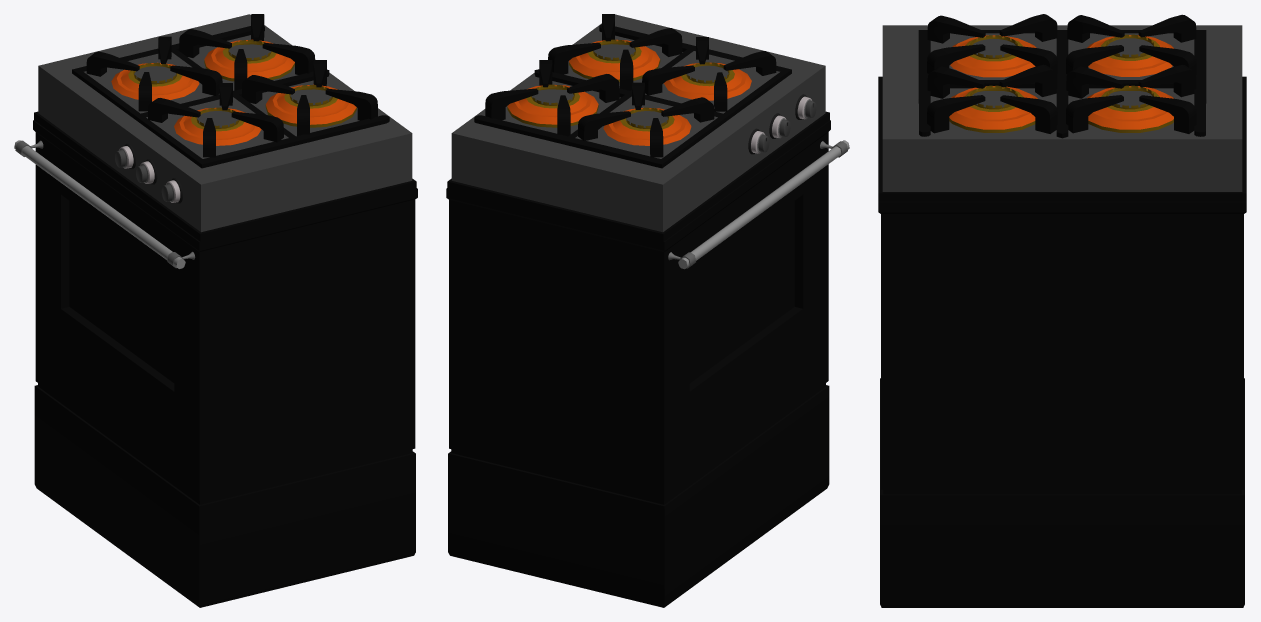
File: Gss Burner.glb
3 renders of one model, left to right at view 1: azimuth 30°, elevation 25°; view 2: azimuth 150°, elevation 25°; view 3: azimuth 270°, elevation 25°, orthographic. The views are drawn at different scales.
Visible parts, largest first — view 1: burmer, handel, stove1.001, stove1.002, stove1.003, stove1, side11.005, side11.011, side11.007, side11.009, side11.001, side11.013 (+2 smaller); view 2: burmer, handel, stove1.002, stove1.001, stove1.003, stove1, side11.010, side11.004, side11.008, side11.006, side11.014, side11.002 (+2 smaller); view 3: burmer, stove1.001, stove1.002, stove1.003, stove1, side11.006, side11.005, side11.009, side11.010, side11.011, side11.007, side11.008 (+9 smaller).
Part boxes in pixels (x1,y1,x2,y2): burmer: (33,14,417,607); handel: (14,140,185,268); stove1.001: (265,84,356,127); stove1.002: (204,39,294,81); stove1.003: (111,62,199,101); stove1: (174,107,261,145); side11.005: (325,88,377,120); side11.011: (179,29,231,57); side11.007: (242,75,294,103); side11.009: (262,43,315,74); side11.001: (231,111,283,142); side11.013: (170,65,222,95); burmer: (446,14,830,607); handel: (678,140,849,269); stove1.002: (507,84,598,127); stove1.001: (569,39,660,82); stove1.003: (603,107,691,145); stove1: (663,62,751,100); side11.010: (485,88,538,120); side11.004: (629,28,682,56); side11.008: (567,74,619,102); side11.006: (548,42,600,74); side11.014: (578,111,630,141); side11.002: (642,65,694,95); burmer: (878,25,1246,607); stove1.001: (949,85,1037,132); stove1.002: (1087,85,1173,132); stove1.003: (1087,34,1173,76); stove1: (950,35,1036,77); side11.006: (1000,95,1057,133); side11.005: (927,95,985,133); side11.009: (1066,95,1123,133); side11.010: (1139,95,1196,133); side11.011: (1138,65,1196,97); side11.007: (999,64,1057,96); side11.008: (1066,66,1124,98).
Bounding box in the file's own units: 0.9141 × 1.62 × 1.1.
